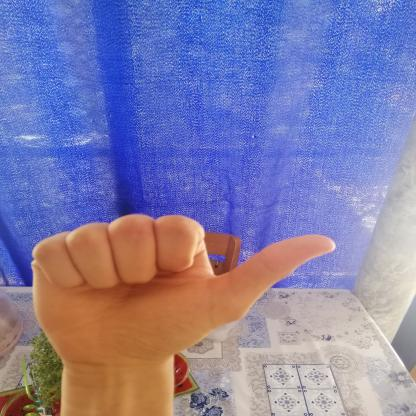DAD: (15, 204, 347, 380)
